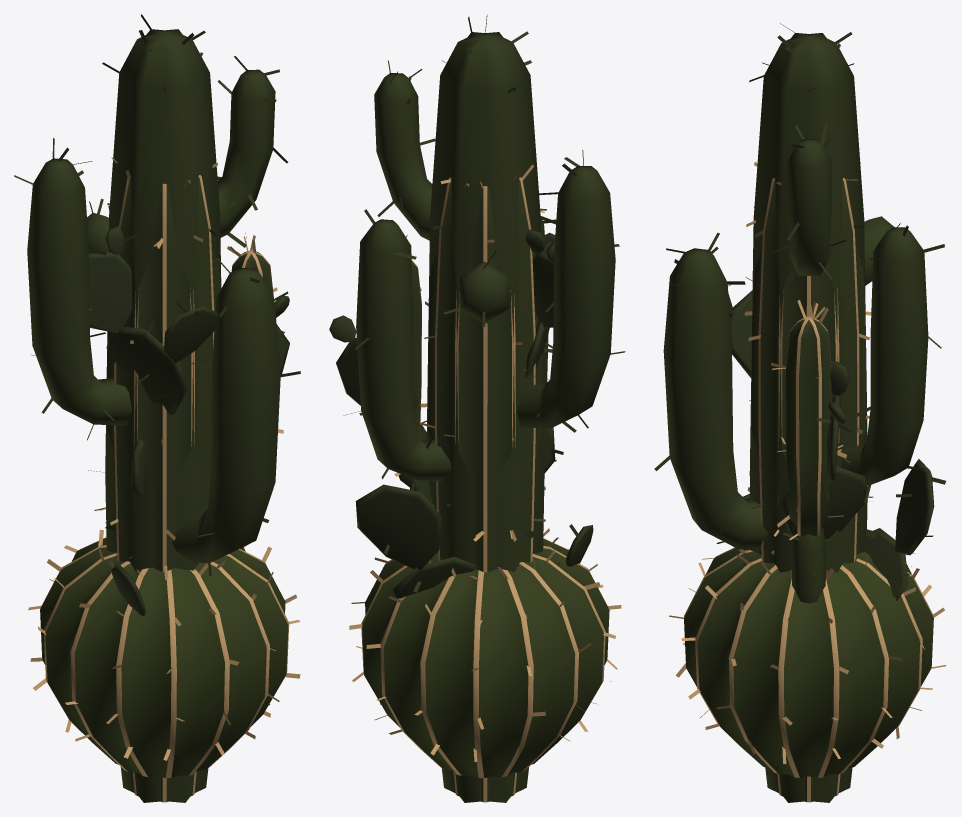
Rendered from g_cactus.glb.
3 renders of one model, left to right at view 1: azimuth 30°, elevation 25°; view 2: azimuth 150°, elevation 25°; view 3: azimuth 270°, elevation 25°, orthographic.
Parts seen in each view (by area): view 1: v3, v0, v4, v7; view 2: v3, v0, v4, v7; view 3: v3, v0, v4, v7, v5.
Part boxes in pixels (x1,y1,x2,y2): v3: (14, 14, 300, 802); v0: (28, 522, 300, 778); v4: (94, 157, 283, 802); v7: (88, 226, 289, 615); v3: (343, 14, 625, 802); v0: (349, 528, 621, 778); v4: (394, 164, 546, 802); v7: (329, 229, 593, 598); v3: (654, 23, 944, 802); v0: (669, 547, 946, 777); v4: (744, 159, 873, 802); v7: (711, 247, 945, 601); v5: (783, 517, 832, 603).
Bounding box in the file's own units: 1.03 × 2.72 × 0.9502.
